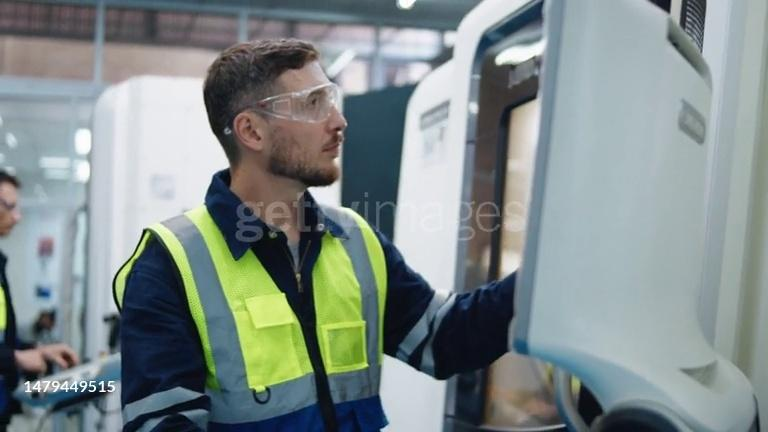person: (113, 36, 518, 431), (0, 169, 81, 432)
